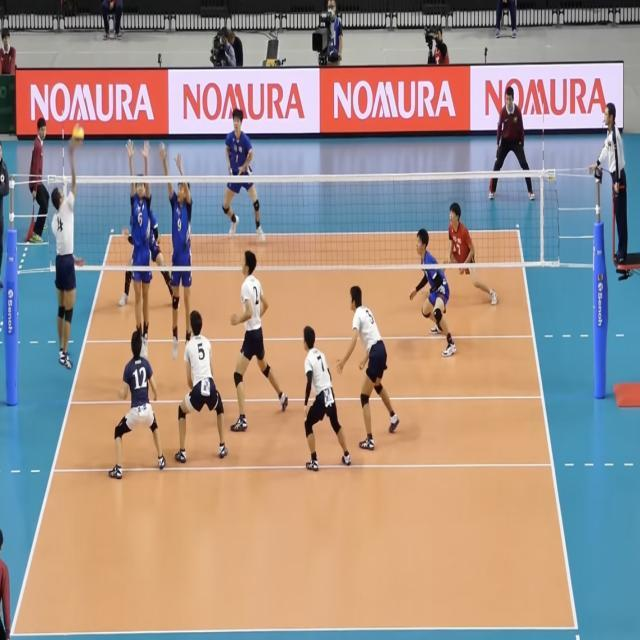spike: (50, 125, 90, 372)
